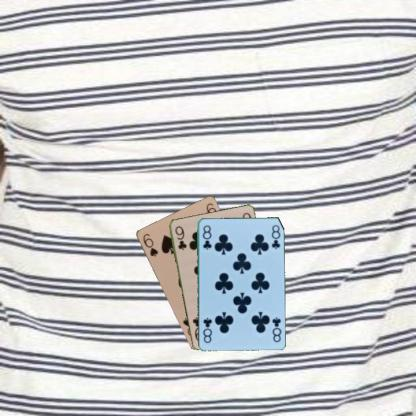6s: (140, 230, 159, 258)
8c: (269, 314, 283, 344), (200, 222, 213, 251)
9c: (172, 223, 188, 251)
